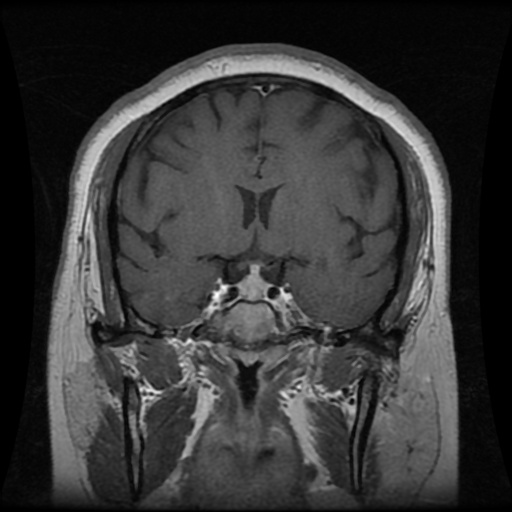pituitary: (238, 263, 266, 300)
